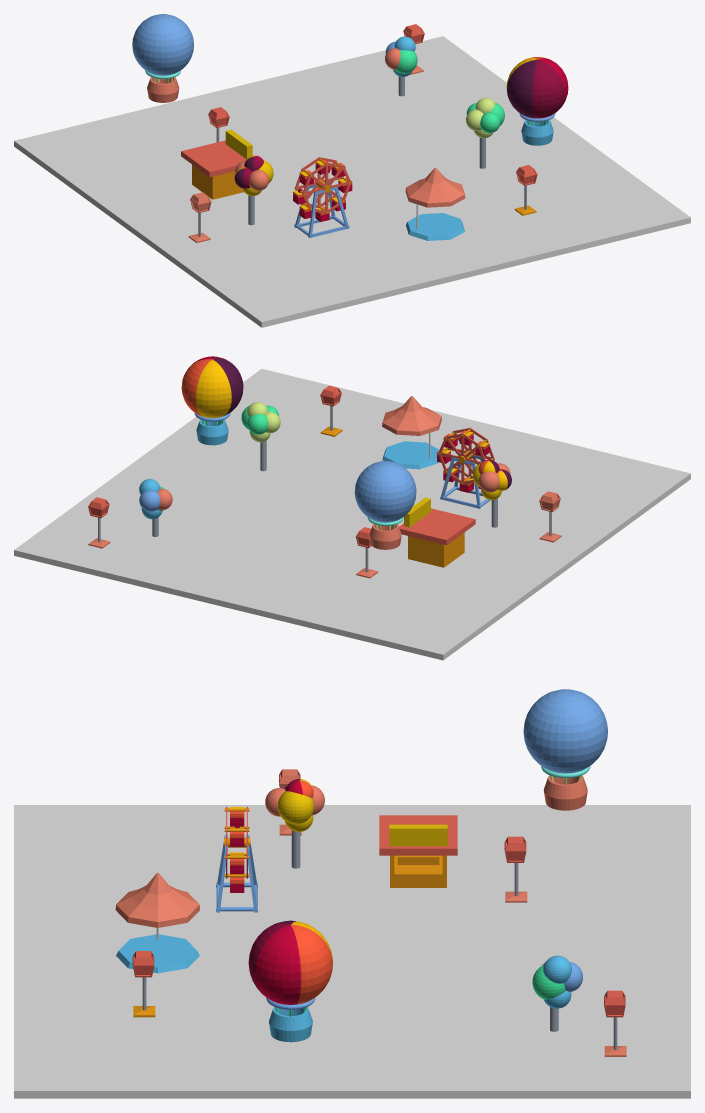
Rendered from parkmodel.glb.
3 views of the same model, one above another, from view 1: azimuth 30°, elevation 25°; view 2: azimuth 150°, elevation 25°; view 3: azimuth 270°, elevation 25° (orthographic). The views are drawn at different scales.
Parts seen in each view (by area): view 1: ground, balloon, Sphere.006, Circle.001, Cube.019, Circle, Cube.018, Circle.002, Cylinder.013, Plane.002, Cube.020; view 2: ground, balloon, Sphere.006, Cube.019, Circle.001, Cube.018, Circle, Circle.003, Cylinder.013, Plane.001, Cube.020; view 3: ground, balloon, Sphere.006, Circle.001, Circle, Cube.019, Cube.018, Cube.020, Cylinder.013, Sphere.007, Sphere.014, Sphere.017.
Boxes of the visible parts, x1,y1,x2,y2 form: ground: [14, 36, 690, 327]; balloon: [132, 14, 193, 102]; Sphere.006: [506, 57, 568, 118]; Circle.001: [405, 167, 465, 207]; Cube.019: [181, 140, 246, 177]; Circle: [406, 213, 464, 240]; Cube.018: [192, 164, 243, 199]; Circle.002: [302, 162, 351, 213]; Cylinder.013: [521, 120, 553, 145]; Plane.002: [308, 186, 348, 237]; Cube.020: [225, 129, 252, 158]; ground: [14, 369, 690, 660]; balloon: [354, 461, 416, 549]; Sphere.006: [181, 356, 243, 417]; Cube.019: [399, 508, 475, 545]; Circle.001: [382, 396, 441, 435]; Cube.018: [408, 532, 464, 567]; Circle: [382, 441, 439, 469]; Circle.003: [438, 433, 485, 484]; Cylinder.013: [196, 419, 228, 445]; Plane.001: [440, 457, 480, 508]; Cube.020: [404, 497, 430, 527]; ground: [14, 805, 690, 1098]; balloon: [523, 689, 607, 810]; Sphere.006: [248, 920, 332, 1004]; Circle.001: [115, 872, 200, 927]; Circle: [116, 934, 199, 973]; Cube.019: [379, 815, 457, 855]; Cube.018: [390, 855, 446, 887]; Cube.020: [389, 824, 447, 846]; Cylinder.013: [269, 1007, 312, 1042]; Sphere.007: [277, 791, 313, 824]; Sphere.014: [543, 955, 571, 983]; Sphere.017: [532, 965, 565, 999].
Bounding box in the file's own units: 21.41 × 6.86 × 21.41.
Materials: 14 (1 with a texture image).
